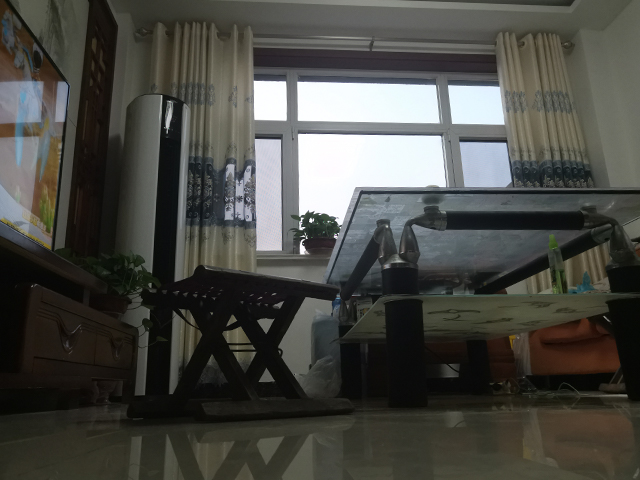cabinet: (1, 221, 140, 406)
curtain: (494, 25, 604, 282), (186, 20, 258, 387)
sofa: (514, 273, 622, 393)
stool: (125, 261, 357, 424)
table: (320, 185, 640, 409)
